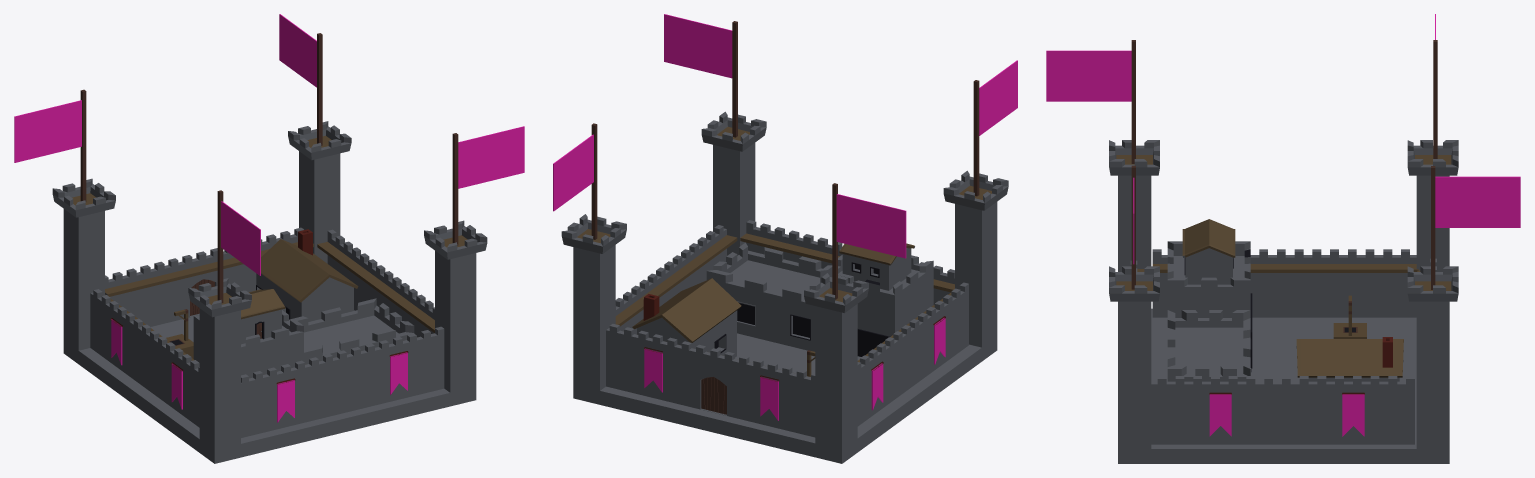
Rendered from updatedCastleLV3.fbx.
The picture shows the model from 3 angles, left to right: view 1: azimuth 30°, elevation 25°; view 2: azimuth 150°, elevation 25°; view 3: azimuth 270°, elevation 25°; orthographic projection. The views are drawn at different scales.
Visible parts, largest first — view 1: Castle; view 2: Castle; view 3: Castle.
Boxes of the visible parts, box(x1,y1,x2,y2) form: Castle: box(14, 14, 524, 463); Castle: box(553, 14, 1017, 463); Castle: box(1046, 14, 1520, 463).
Size of the model in its own units: 2849 by 1929 by 2860.
